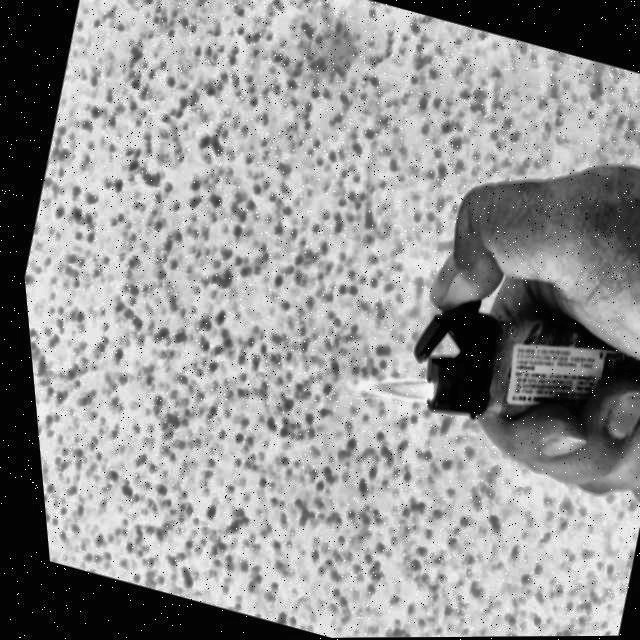Fire: (352, 362, 429, 409)
